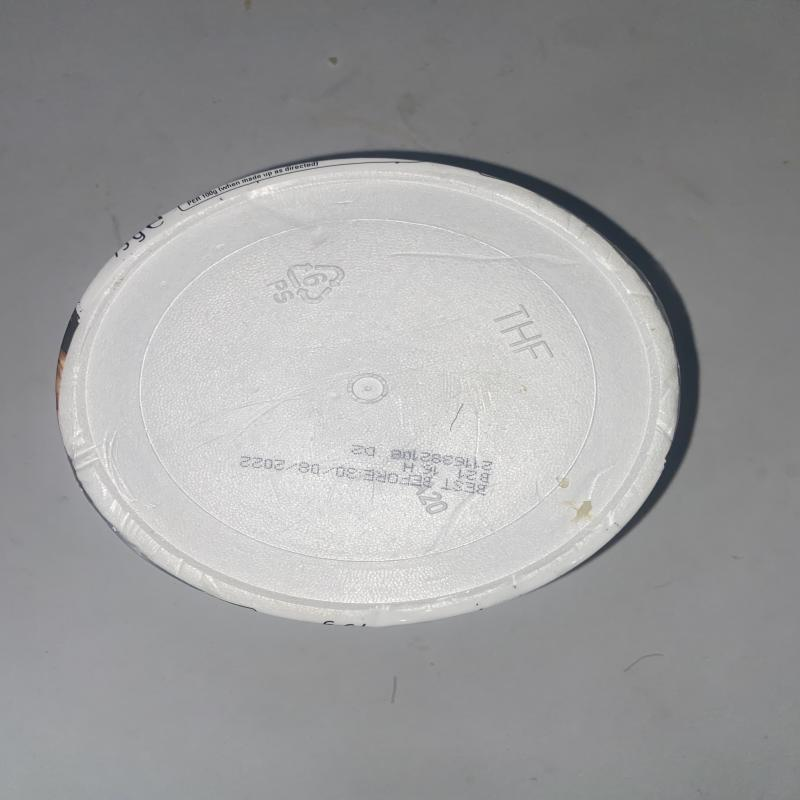styrofoam containers: (54, 156, 680, 630)
